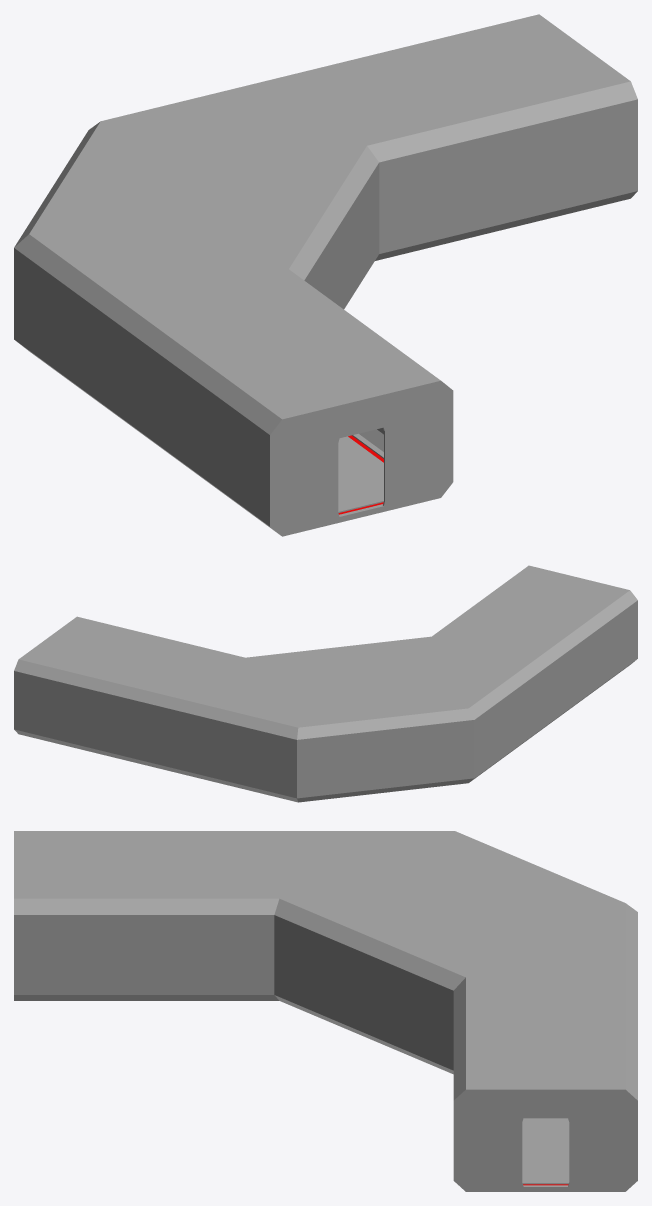
The model's file is HallwayCornerNW.fbx.
The picture shows the model from 3 angles, top to bottom: view 1: azimuth 30°, elevation 25°; view 2: azimuth 150°, elevation 25°; view 3: azimuth 270°, elevation 25°; orthographic projection. The views are drawn at different scales.
Parts seen in each view (by area): view 1: HallwayCornerNW; view 2: HallwayCornerNW; view 3: HallwayCornerNW.
Part boxes in pixels (x1,y1,x2,y2): HallwayCornerNW: (14, 14, 637, 536); HallwayCornerNW: (14, 565, 637, 802); HallwayCornerNW: (14, 831, 637, 1191).
Size of the model in its own units: 1761 by 318 by 1760.
